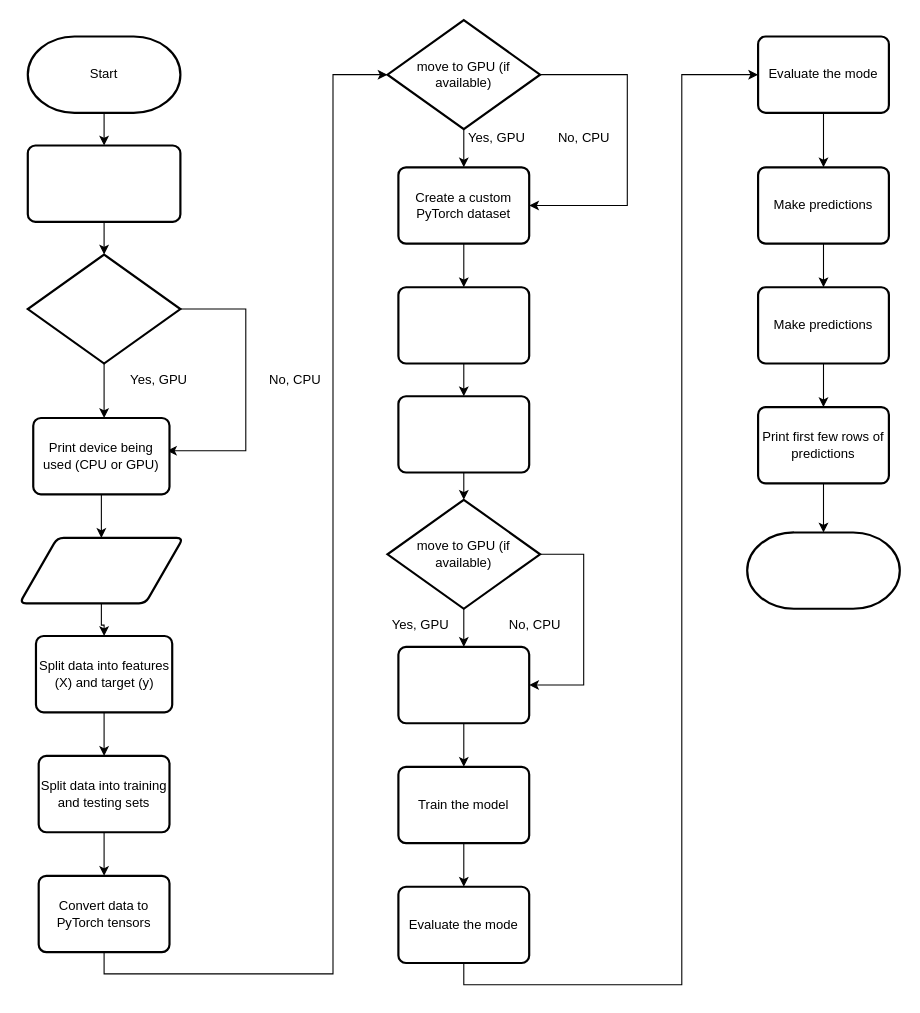
Some shapes in this 920 by 1013 pixel diagram are drawn without their labels. Each missing label, with the centre of its shape:
Build the RNN model: the point at 463,434
Check for GPU availability: the point at 103,183
Check have GPU: the point at 103,308
Create DataLoader for efficient batch processing: the point at 463,325
Define loss function and optimizer: the point at 463,684
End: the point at 823,570
Load CSV data: the point at 101,570
